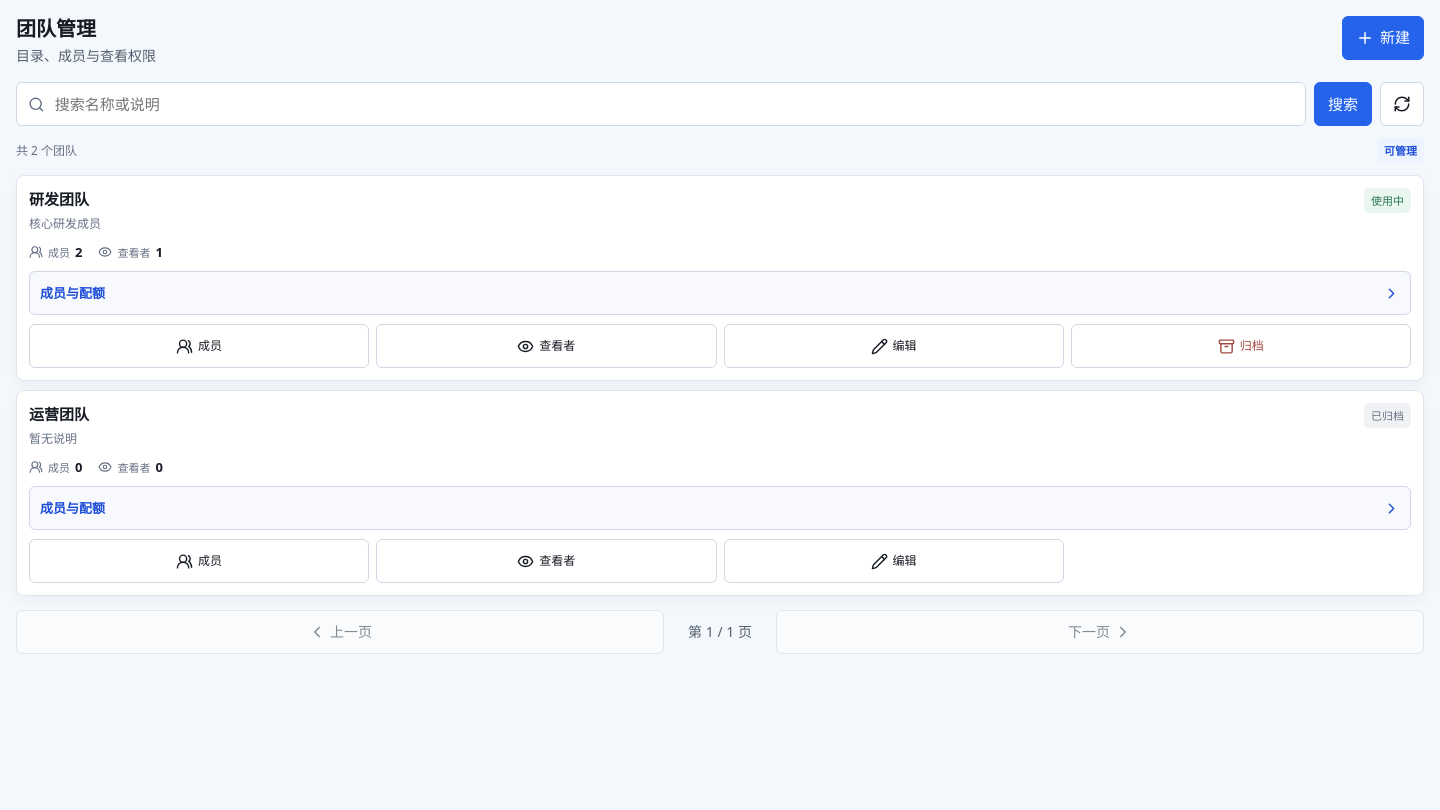
MobileUserGroupsView › keeps cards after an archive rejection and redacts the raw failure
Click the button with test id "archive-user-group-3": {"x": 1241, "y": 346} [1071,324,1411,368]
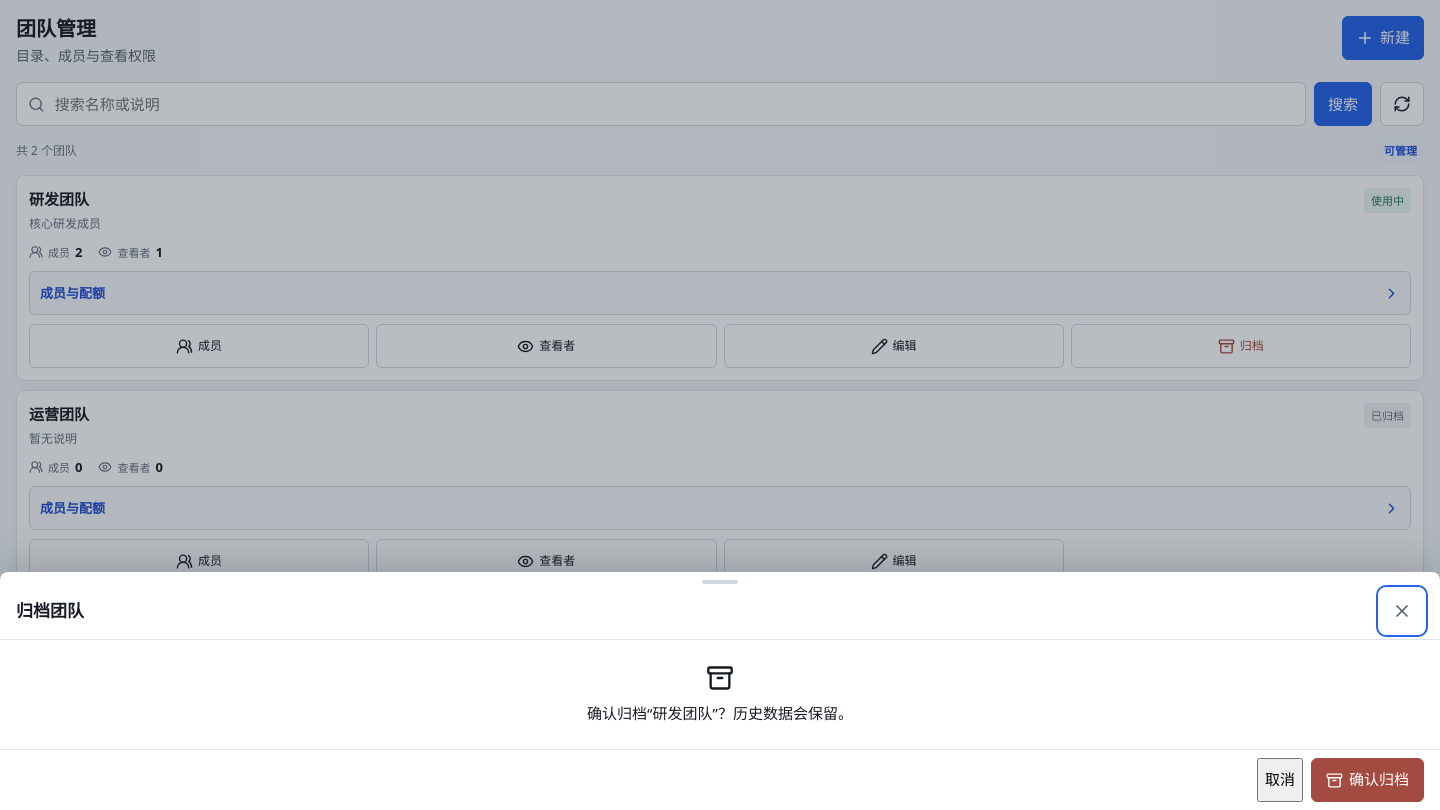
Click the button with test id "confirm-archive-user-group": {"x": 1368, "y": 780} [1311,758,1424,802]
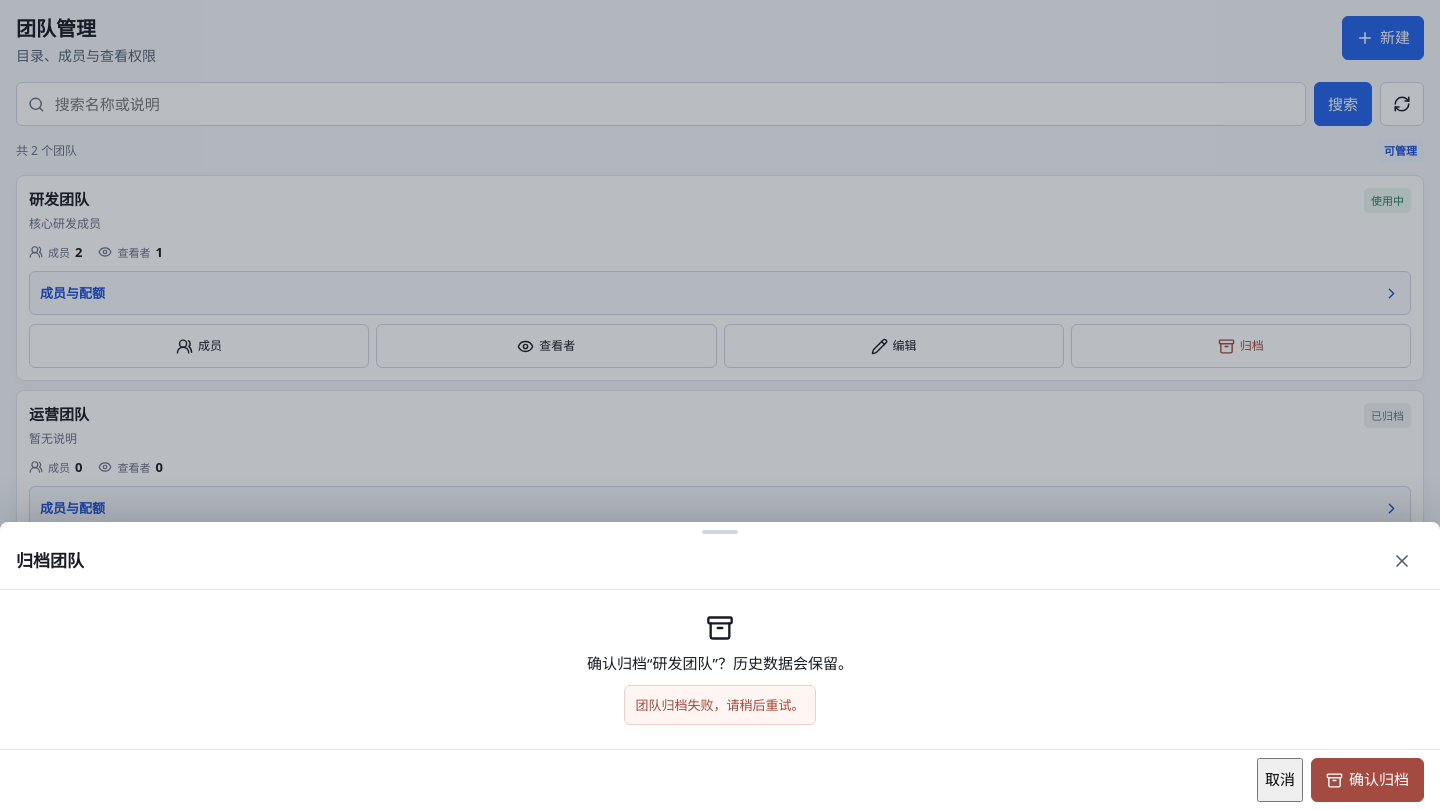
Check: the number of elements with test id "mobile-user-group-card" is 2, box [16,175,1424,381]; [16,390,1424,596]
Check: the message with test id "archive-user-group-error" reads "团队归档失败，请稍后重试。", box [636,696,804,714]
